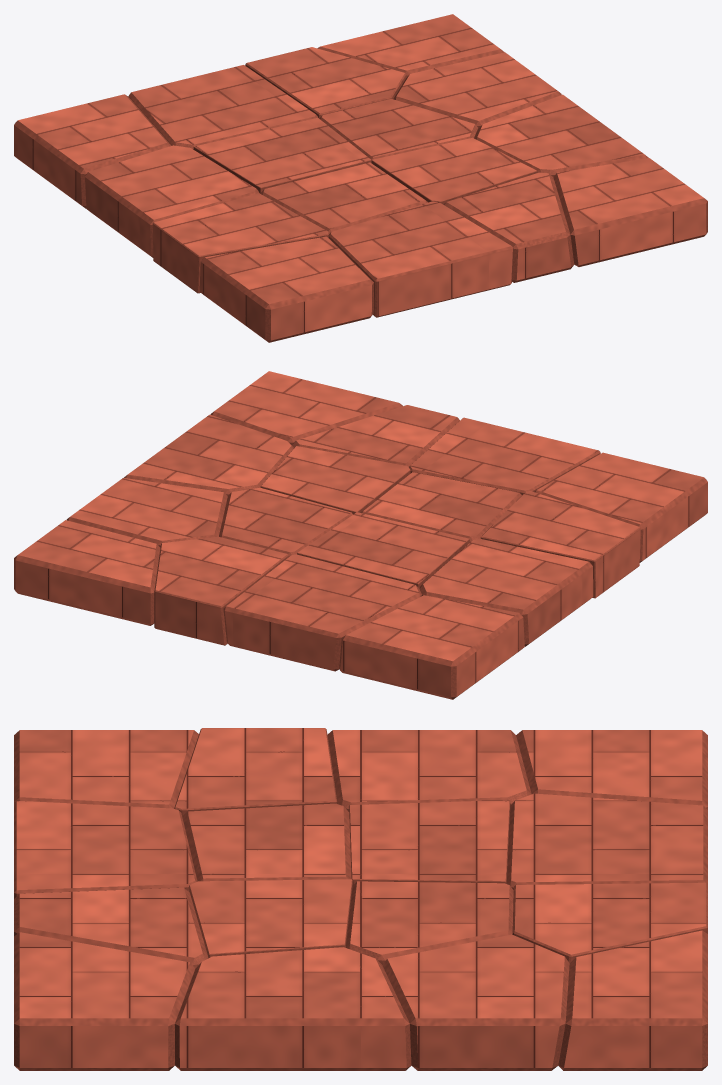
Rendered from Kit_Brick_Floor_Fractured.glb.
The picture shows the model from 3 angles, top to bottom: view 1: azimuth 30°, elevation 25°; view 2: azimuth 150°, elevation 25°; view 3: azimuth 270°, elevation 25°; orthographic projection. The views are drawn at different scales.
Parts seen in each view (by area): view 1: Kit_Brick_Floor_frag_05, Kit_Brick_Floor_frag_01, Kit_Brick_Floor_frag_13, Kit_Brick_Floor_frag_03, Kit_Brick_Floor_frag_04, Kit_Brick_Floor_frag_08, Kit_Brick_Floor_frag_02, Kit_Brick_Floor_frag_09, Kit_Brick_Floor_frag_14, Kit_Brick_Floor_frag_15, Kit_Brick_Floor_frag_07, Kit_Brick_Floor_frag_12 (+4 smaller); view 2: Kit_Brick_Floor_frag_08, Kit_Brick_Floor_frag_04, Kit_Brick_Floor_frag_16, Kit_Brick_Floor_frag_03, Kit_Brick_Floor_frag_01, Kit_Brick_Floor_frag_12, Kit_Brick_Floor_frag_05, Kit_Brick_Floor_frag_02, Kit_Brick_Floor_frag_14, Kit_Brick_Floor_frag_15, Kit_Brick_Floor_frag_13, Kit_Brick_Floor_frag_07 (+4 smaller); view 3: Kit_Brick_Floor_frag_14, Kit_Brick_Floor_frag_13, Kit_Brick_Floor_frag_15, Kit_Brick_Floor_frag_16, Kit_Brick_Floor_frag_08, Kit_Brick_Floor_frag_05, Kit_Brick_Floor_frag_03, Kit_Brick_Floor_frag_01, Kit_Brick_Floor_frag_04, Kit_Brick_Floor_frag_07, Kit_Brick_Floor_frag_12, Kit_Brick_Floor_frag_06 (+4 smaller).
Boxes of the visible parts, x1=… form: Kit_Brick_Floor_frag_05: x1=329, y1=201, x2=513, y2=317; Kit_Brick_Floor_frag_01: x1=199, y1=236, x2=373, y2=342; Kit_Brick_Floor_frag_13: x1=553, y1=158, x2=707, y2=266; Kit_Brick_Floor_frag_03: x1=85, y1=145, x2=259, y2=257; Kit_Brick_Floor_frag_04: x1=14, y1=94, x2=171, y2=208; Kit_Brick_Floor_frag_08: x1=128, y1=65, x2=318, y2=148; Kit_Brick_Floor_frag_02: x1=152, y1=193, x2=329, y2=293; Kit_Brick_Floor_frag_09: x1=443, y1=172, x2=574, y2=282; Kit_Brick_Floor_frag_14: x1=474, y1=94, x2=648, y2=176; Kit_Brick_Floor_frag_15: x1=393, y1=52, x2=561, y2=128; Kit_Brick_Floor_frag_07: x1=193, y1=117, x2=371, y2=192; Kit_Brick_Floor_frag_12: x1=245, y1=47, x2=406, y2=118; Kit_Brick_Floor_frag_08: x1=223, y1=554, x2=421, y2=671; Kit_Brick_Floor_frag_04: x1=339, y1=595, x2=524, y2=699; Kit_Brick_Floor_frag_16: x1=14, y1=520, x2=160, y2=625; Kit_Brick_Floor_frag_03: x1=419, y1=539, x2=593, y2=646; Kit_Brick_Floor_frag_01: x1=534, y1=452, x2=707, y2=562; Kit_Brick_Floor_frag_12: x1=154, y1=536, x2=289, y2=645; Kit_Brick_Floor_frag_05: x1=409, y1=417, x2=600, y2=494; Kit_Brick_Floor_frag_02: x1=480, y1=491, x2=640, y2=598; Kit_Brick_Floor_frag_14: x1=124, y1=414, x2=293, y2=496; Kit_Brick_Floor_frag_15: x1=66, y1=478, x2=227, y2=547; Kit_Brick_Floor_frag_13: x1=210, y1=371, x2=402, y2=444; Kit_Brick_Floor_frag_07: x1=297, y1=512, x2=469, y2=588; Kit_Brick_Floor_frag_14: x1=175, y1=947, x2=411, y2=1070; Kit_Brick_Floor_frag_13: x1=14, y1=932, x2=194, y2=1070; Kit_Brick_Floor_frag_15: x1=382, y1=934, x2=569, y2=1070; Kit_Brick_Floor_frag_16: x1=558, y1=930, x2=707, y2=1070; Kit_Brick_Floor_frag_08: x1=506, y1=793, x2=707, y2=889; Kit_Brick_Floor_frag_05: x1=14, y1=800, x2=197, y2=898; Kit_Brick_Floor_frag_03: x1=327, y1=730, x2=531, y2=811; Kit_Brick_Floor_frag_01: x1=14, y1=730, x2=198, y2=808; Kit_Brick_Floor_frag_04: x1=516, y1=730, x2=707, y2=809; Kit_Brick_Floor_frag_07: x1=349, y1=800, x2=510, y2=884; Kit_Brick_Floor_frag_12: x1=512, y1=882, x2=707, y2=963; Kit_Brick_Floor_frag_06: x1=182, y1=803, x2=351, y2=881.
Size of what is drawn, in the model's own units: 3 by 0.25 by 3.
Materials: 2 (2 with a texture image).
